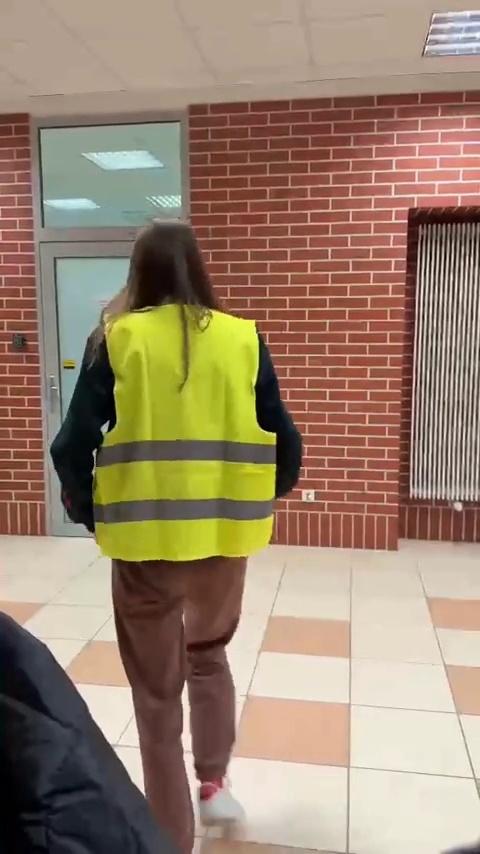vest: (37, 219, 326, 851)
